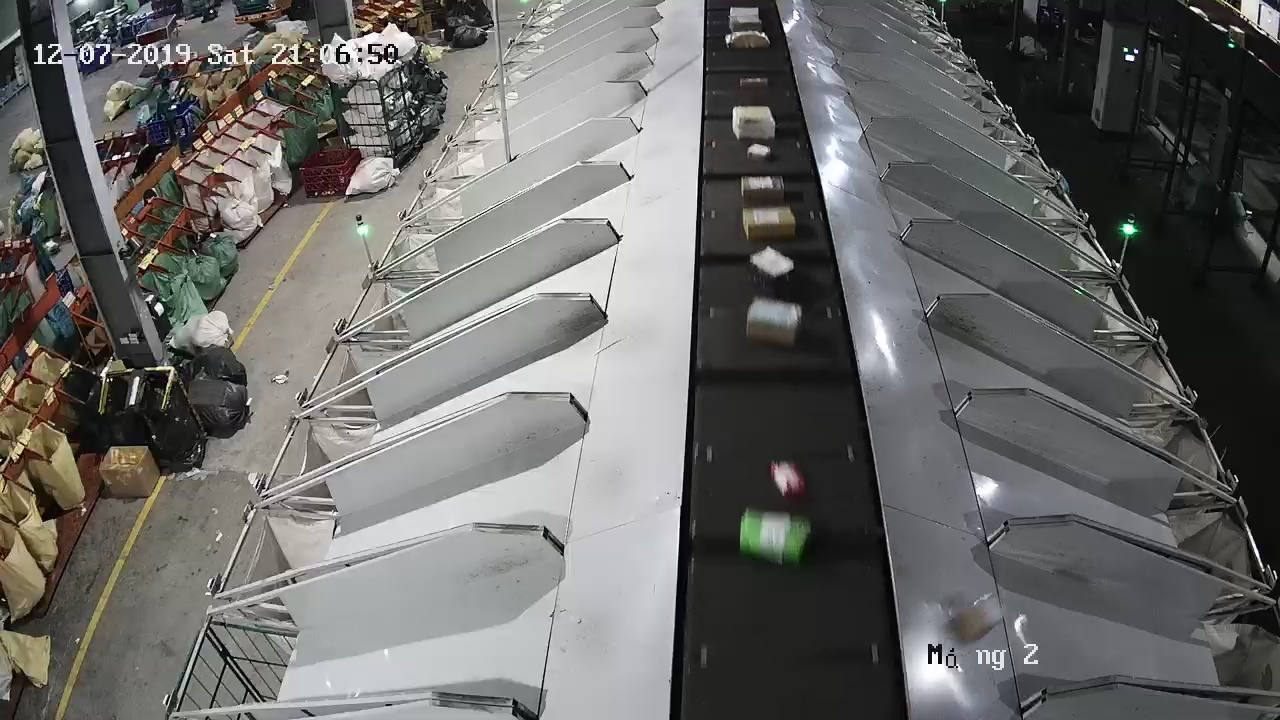parcel: (951, 591, 1003, 643)
